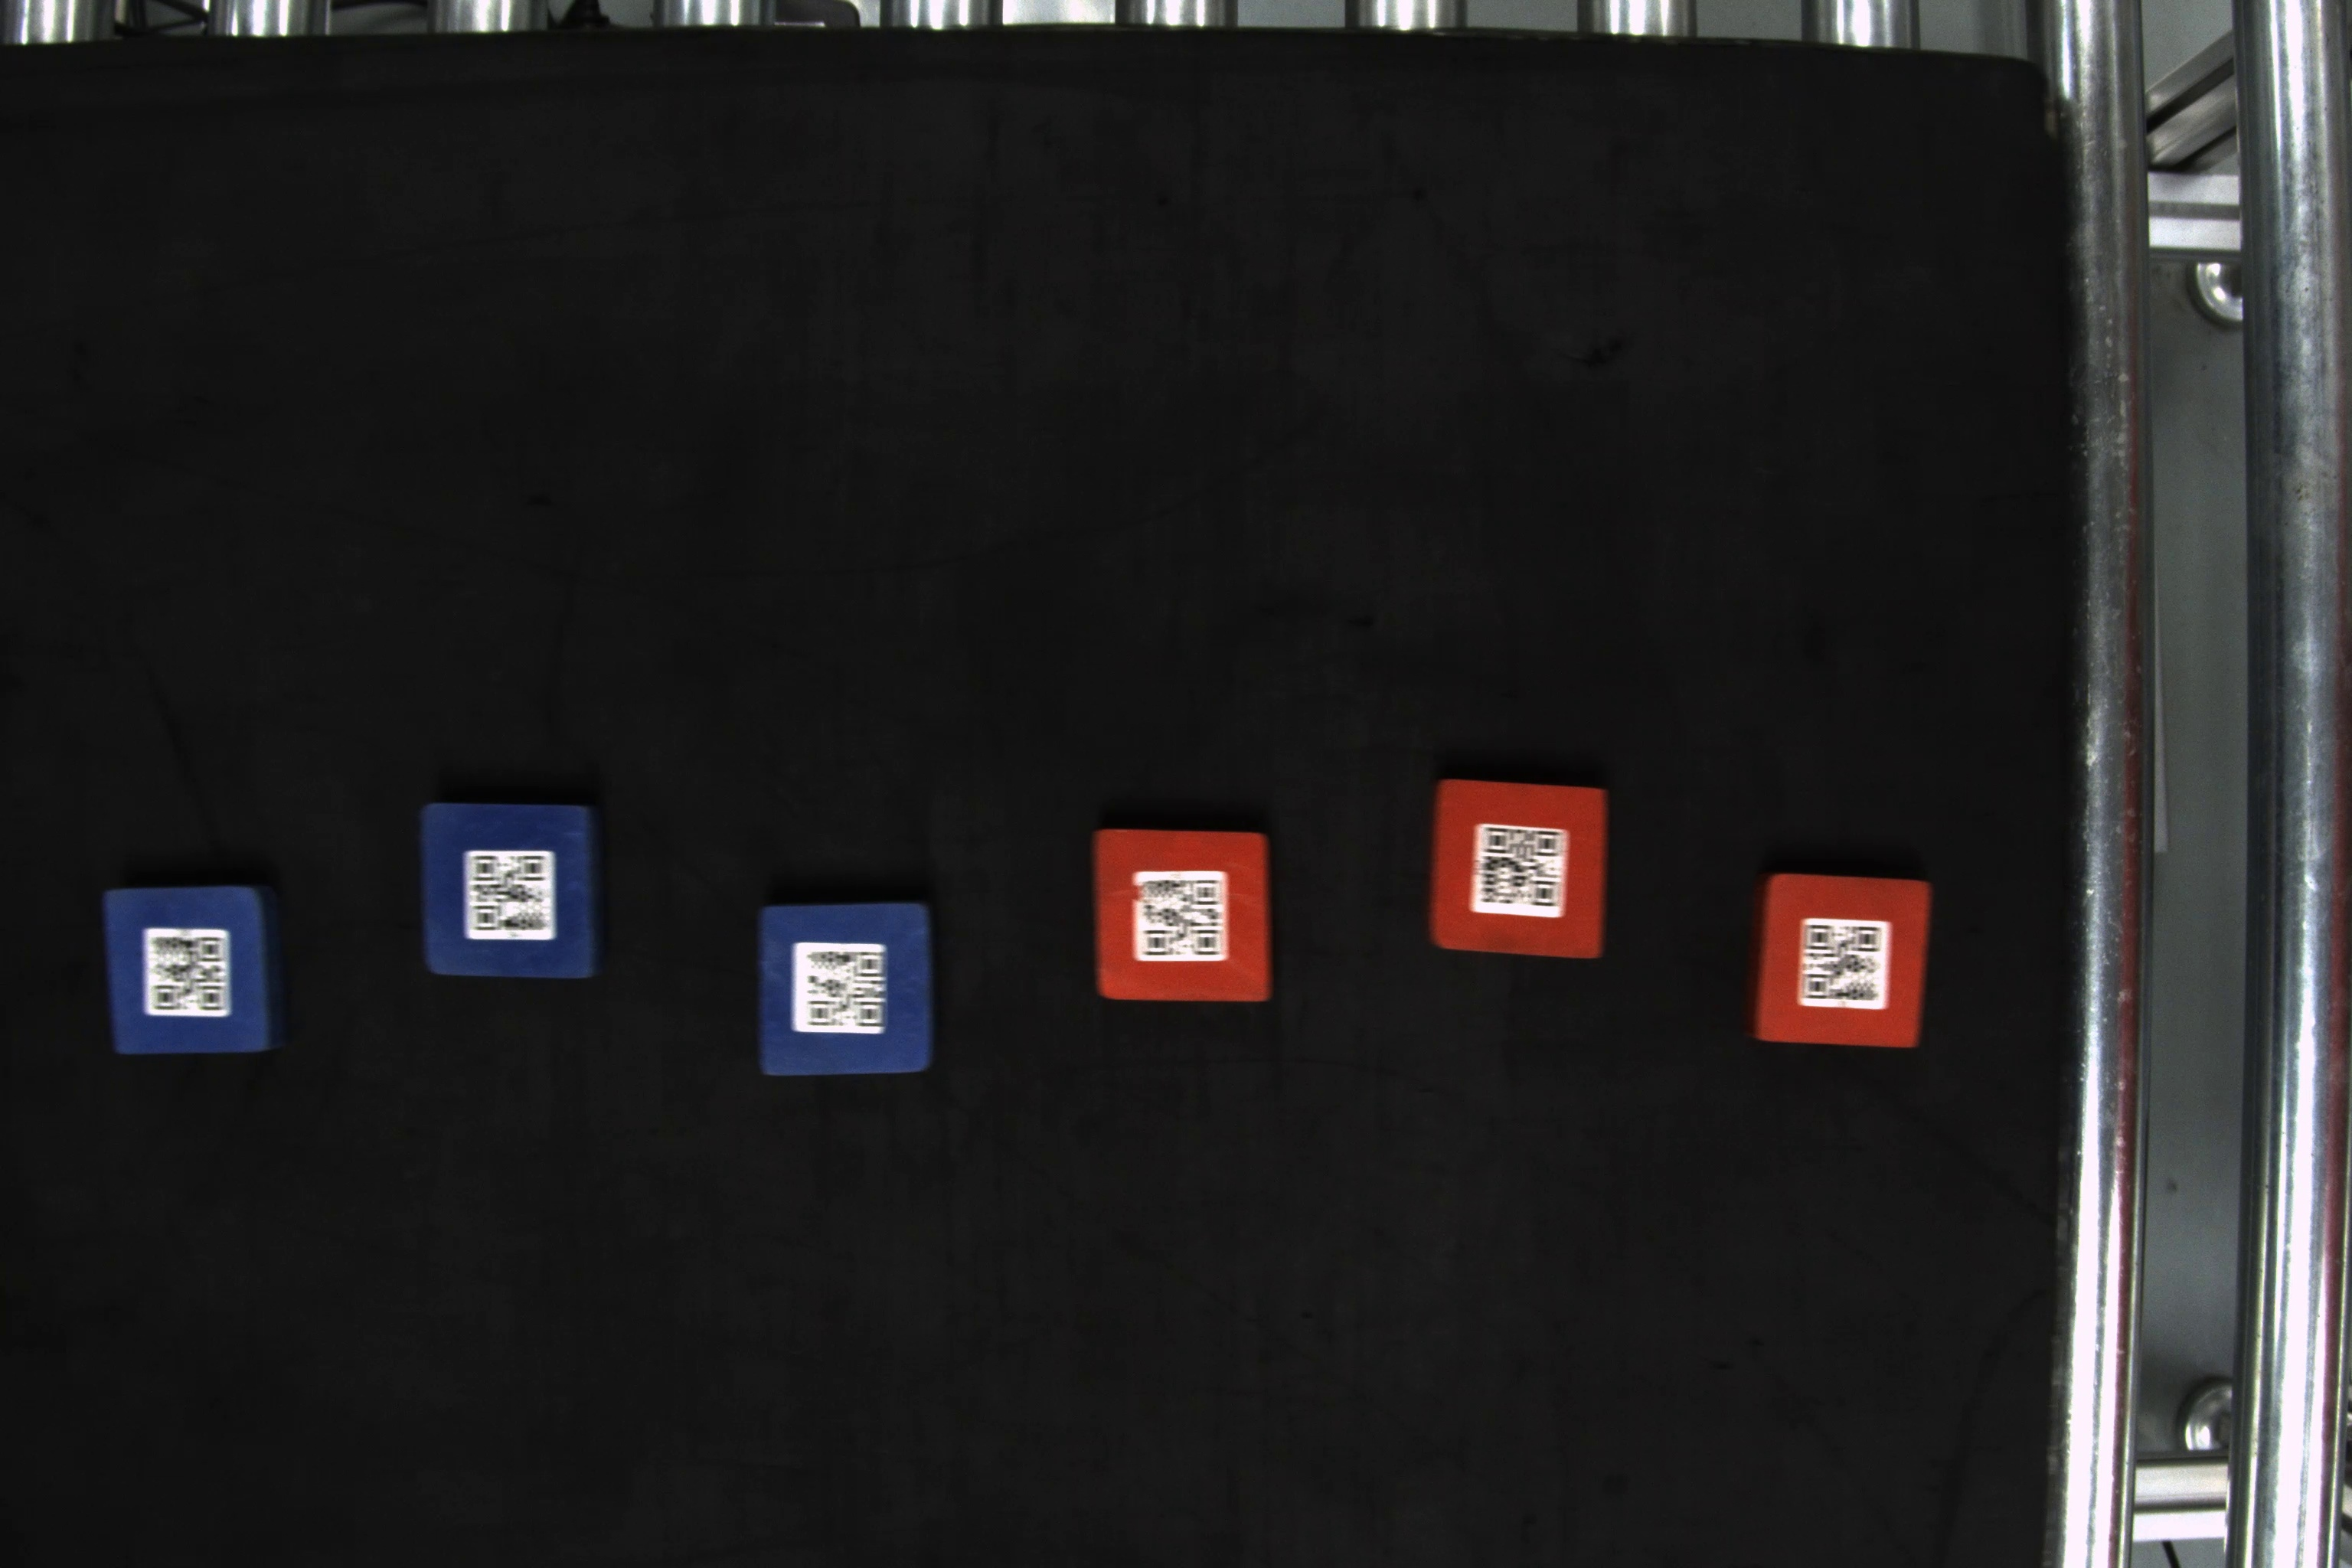wood: (1417, 775, 1613, 964), (1085, 822, 1277, 1006), (1743, 870, 1935, 1053), (416, 796, 604, 982), (754, 899, 940, 1081), (98, 885, 282, 1060)
